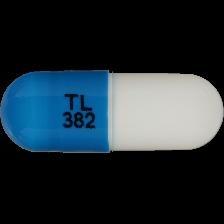50436-6733: (0, 0, 224, 224)
